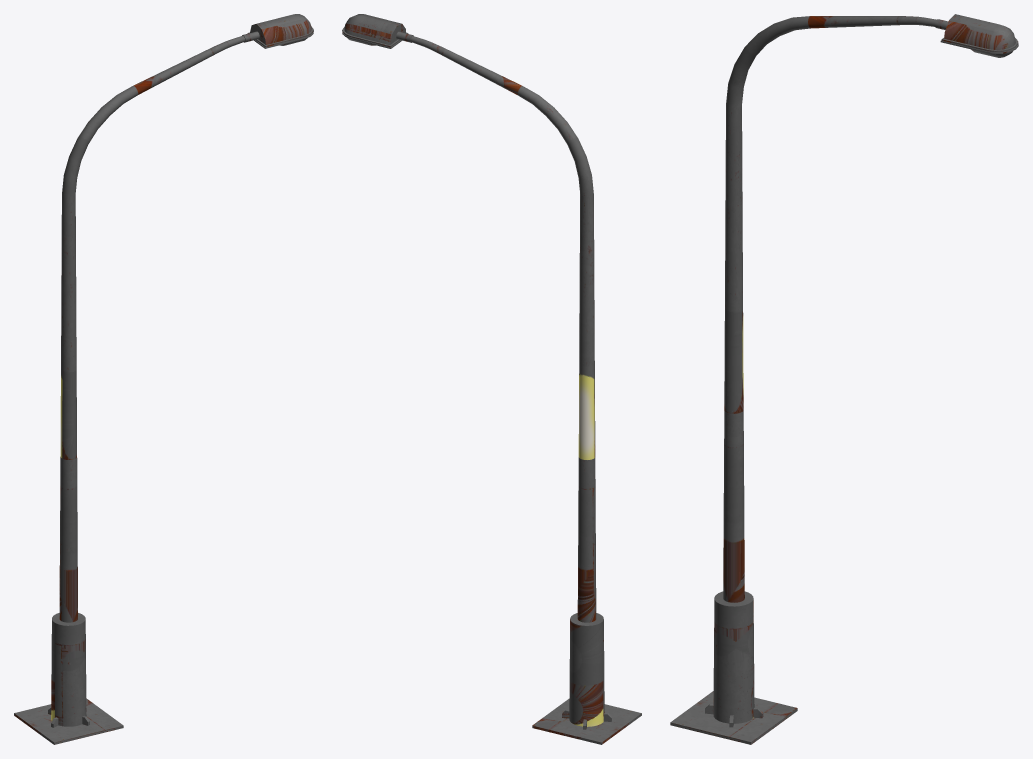
The model's file is streetlight.glb.
3 renders of one model, left to right at view 1: azimuth 30°, elevation 25°; view 2: azimuth 150°, elevation 25°; view 3: azimuth 330°, elevation 25°, orthographic. The views are drawn at different scales.
Visible parts, largest first — view 1: Streetlight01; view 2: Streetlight01; view 3: Streetlight01.
Part boxes in pixels (x1,y1,x2,y2): Streetlight01: (14,14,313,744); Streetlight01: (342,14,641,744); Streetlight01: (670,14,1018,744).
Size of the model in its own units: 5.27 by 11.83 by 1.32.
Materials: 1 (1 with a texture image).
